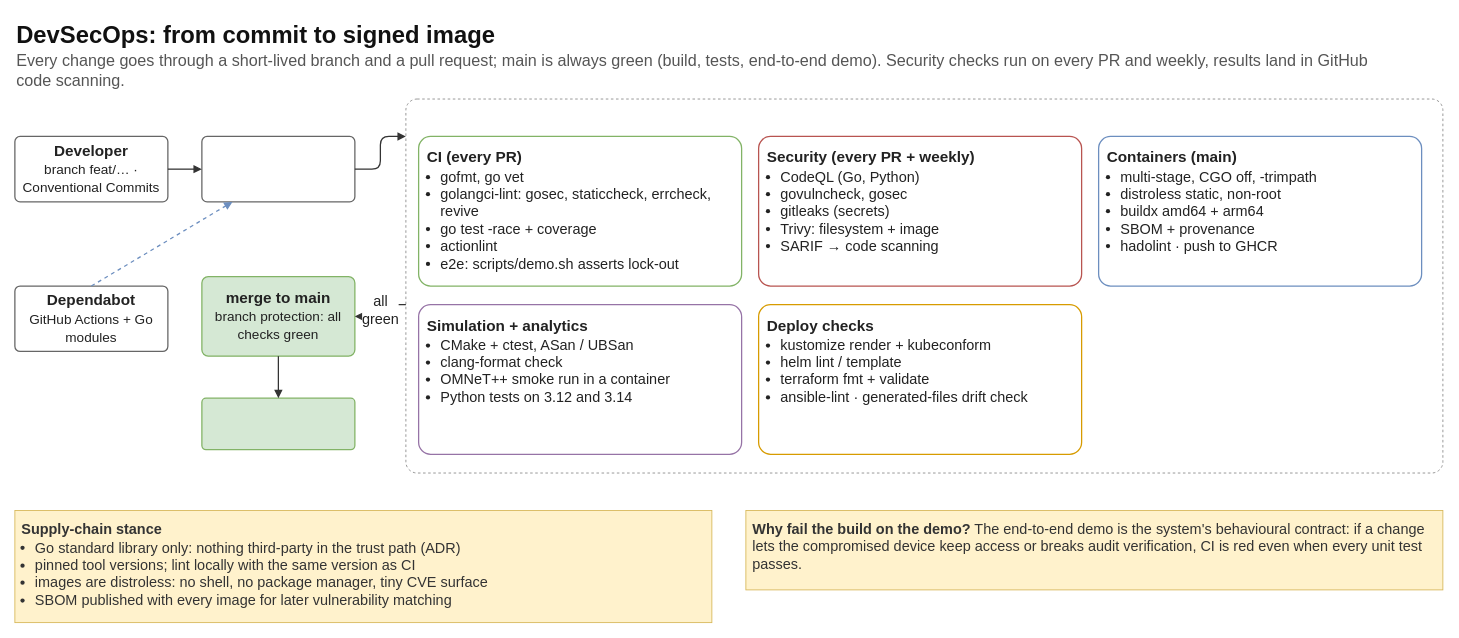
Image size: 1459x638. Some labels were removed from this diagram. The shapes that lost their labels are listed below. From the top down, each one's box as (x1, y1, x2, y2) in pixels, then its label:
(201, 135, 355, 202): Pull request template: what, why, how tested · review
(405, 98, 1443, 473): Checks (parallel jobs, all must pass)
(201, 397, 355, 450): tag vX.Y.Z one per milestone
